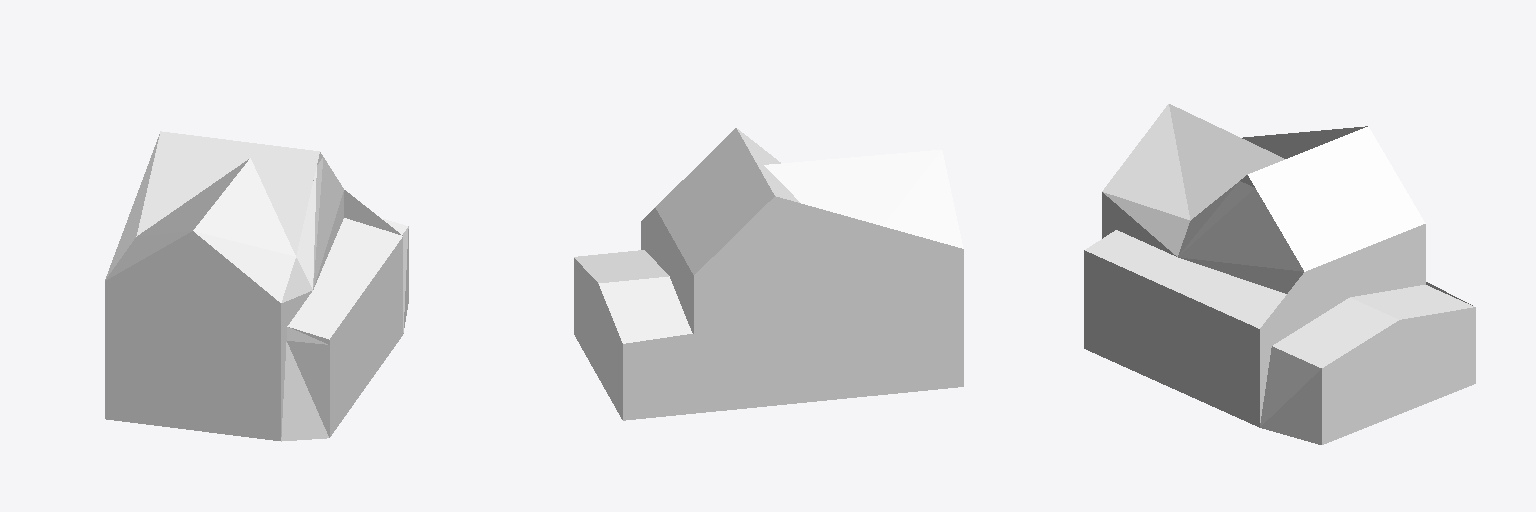
Rendered from house_Shape 353.obj.
3 views of the same model, side by side, from view 1: azimuth 30°, elevation 25°; view 2: azimuth 150°, elevation 25°; view 3: azimuth 270°, elevation 25° (orthographic).
Visible parts, largest first — view 1: CityEngineMaterial_82, CityEngineMaterial_12, CityEngineMaterial_206, CityEngineMaterial_242; view 2: CityEngineMaterial_82, CityEngineMaterial_12, CityEngineMaterial_242, CityEngineMaterial_206; view 3: CityEngineMaterial_82, CityEngineMaterial_12, CityEngineMaterial_206, CityEngineMaterial_84, CityEngineMaterial_242.
Boxes of the visible parts, <box> form: CityEngineMaterial_82: <box>105,157,408,441</box>; CityEngineMaterial_12: <box>105,131,407,339</box>; CityEngineMaterial_206: <box>105,152,402,347</box>; CityEngineMaterial_242: <box>105,134,159,279</box>; CityEngineMaterial_82: <box>574,180,963,420</box>; CityEngineMaterial_12: <box>574,128,963,343</box>; CityEngineMaterial_242: <box>694,196,963,319</box>; CityEngineMaterial_206: <box>597,208,693,319</box>; CityEngineMaterial_82: <box>1084,181,1475,444</box>; CityEngineMaterial_12: <box>1085,104,1473,367</box>; CityEngineMaterial_206: <box>1084,175,1425,333</box>; CityEngineMaterial_84: <box>1260,268,1425,422</box>; CityEngineMaterial_242: <box>1242,126,1367,158</box>.
Size of the model in its own units: 17.51 by 10.1 by 17.09.